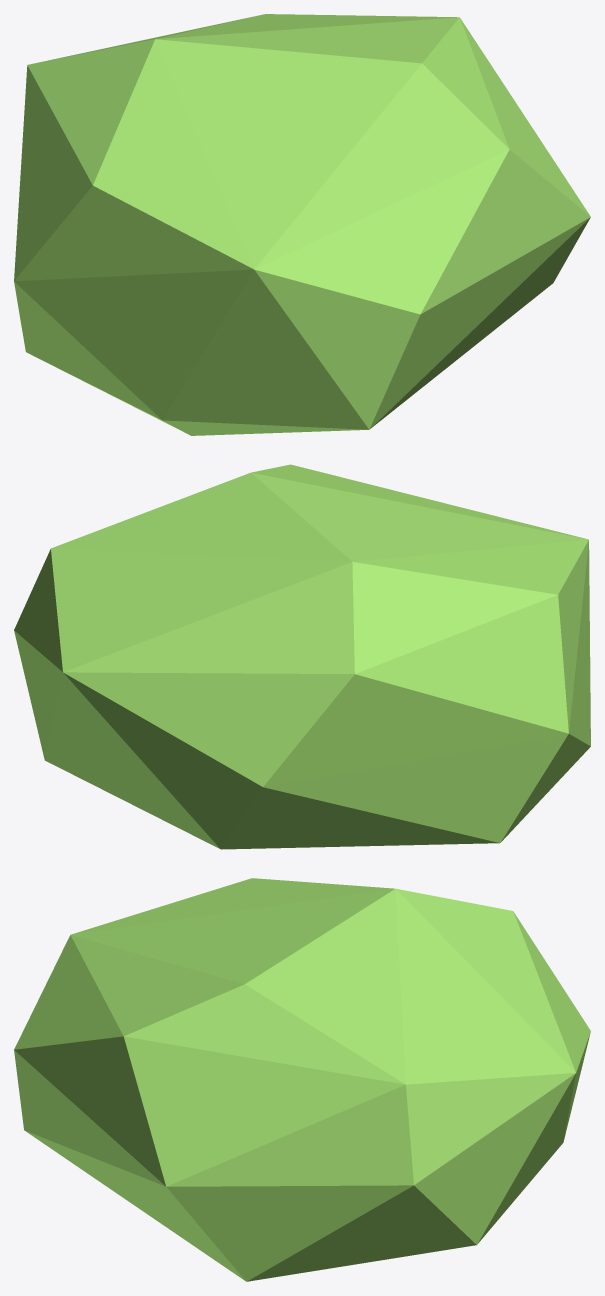
The model's file is bush_3.fbx.
3 renders of one model, top to bottom at view 1: azimuth 30°, elevation 25°; view 2: azimuth 150°, elevation 25°; view 3: azimuth 270°, elevation 25°, orthographic. The views are drawn at different scales.
Visible parts, largest first — view 1: Icosphere.006; view 2: Icosphere.006; view 3: Icosphere.006.
Boxes of the visible parts, box(x1,y1,x2,y2) form: Icosphere.006: box(14, 14, 590, 435); Icosphere.006: box(14, 464, 590, 849); Icosphere.006: box(14, 878, 590, 1281).
Size of the model in its own units: 207 by 116 by 209.
